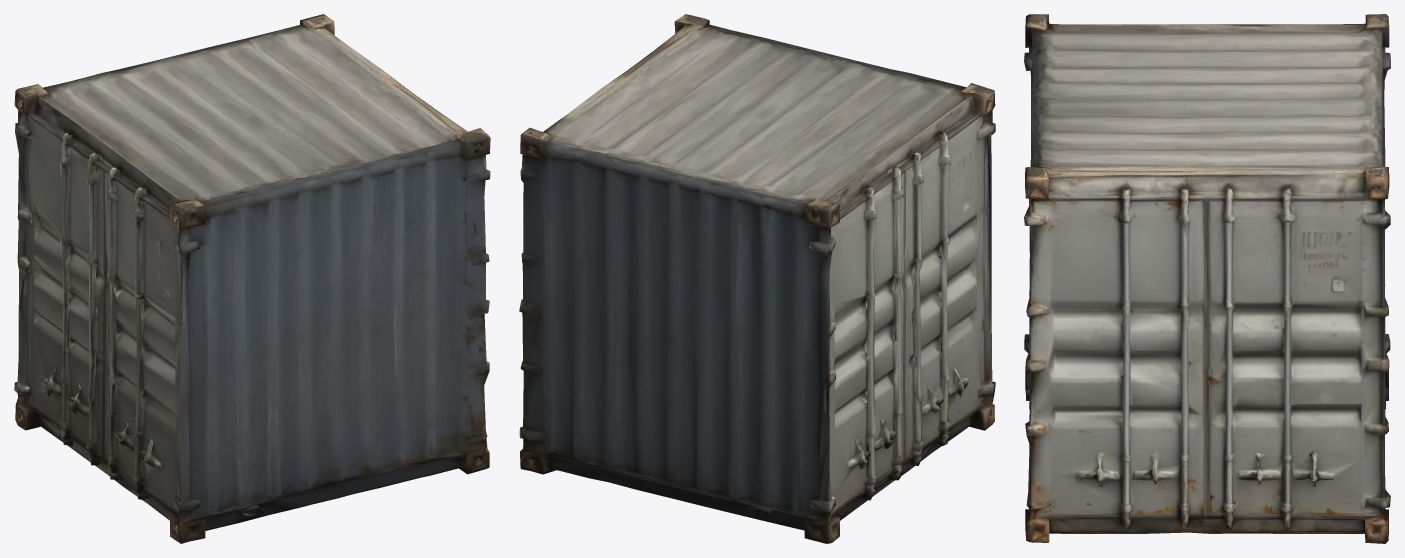
File: pt_container.glb
3 views of the same model, side by side, from view 1: azimuth 30°, elevation 25°; view 2: azimuth 150°, elevation 25°; view 3: azimuth 270°, elevation 25° (orthographic). The views are drawn at different scales.
Parts seen in each view (by area): view 1: tripo_node_ed6e8f3e-00d0-483d-9892-57045d2045af; view 2: tripo_node_ed6e8f3e-00d0-483d-9892-57045d2045af; view 3: tripo_node_ed6e8f3e-00d0-483d-9892-57045d2045af.
Boxes of the visible parts, x1,y1,x2,y2 form: tripo_node_ed6e8f3e-00d0-483d-9892-57045d2045af: (14,14,490,543); tripo_node_ed6e8f3e-00d0-483d-9892-57045d2045af: (519,14,995,543); tripo_node_ed6e8f3e-00d0-483d-9892-57045d2045af: (1024,14,1390,543).
Size of the model in its own units: 0.9727 by 0.9791 by 0.8896.
Materials: 1 (1 with a texture image).
